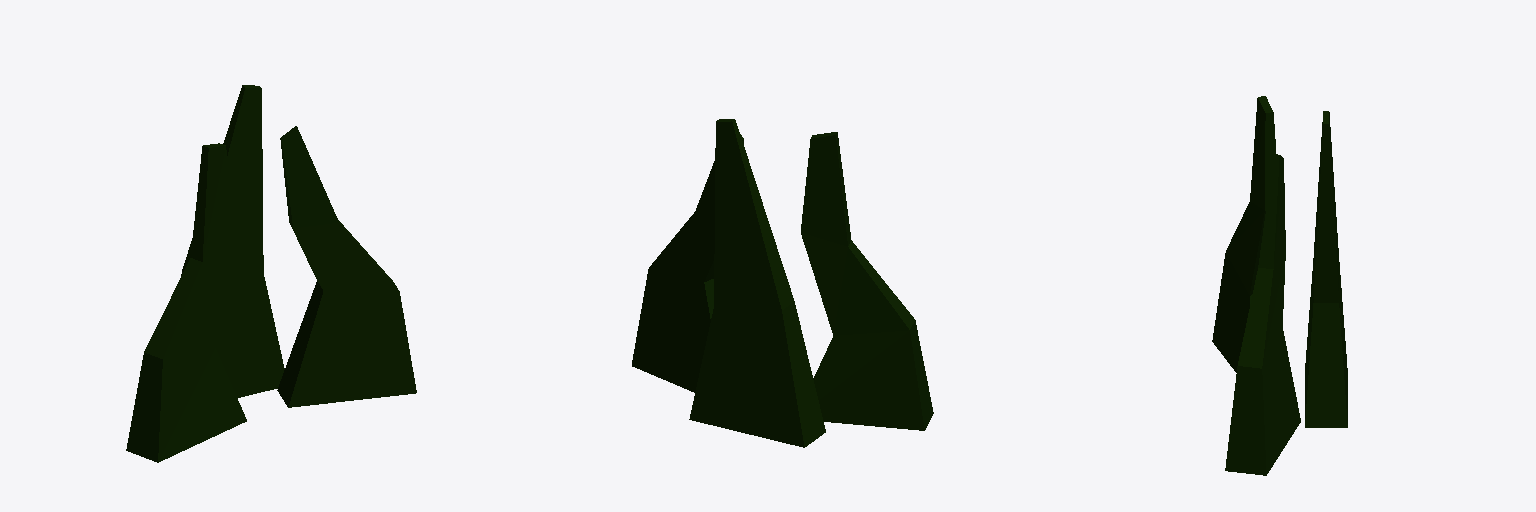
The model's file is Gross.obj.
The picture shows the model from 3 angles: view 1: azimuth 30°, elevation 25°; view 2: azimuth 150°, elevation 25°; view 3: azimuth 270°, elevation 25°; orthographic projection.
Visible parts, largest first — view 1: Cube; view 2: Cube; view 3: Cube.
Part boxes in pixels (left/top/right/bottom): Cube: left=126, top=85, right=416, bottom=462; Cube: left=632, top=119, right=933, bottom=447; Cube: left=1212, top=96, right=1347, bottom=475.
Size of the model in its own units: 2.5 by 2.5 by 1.02.